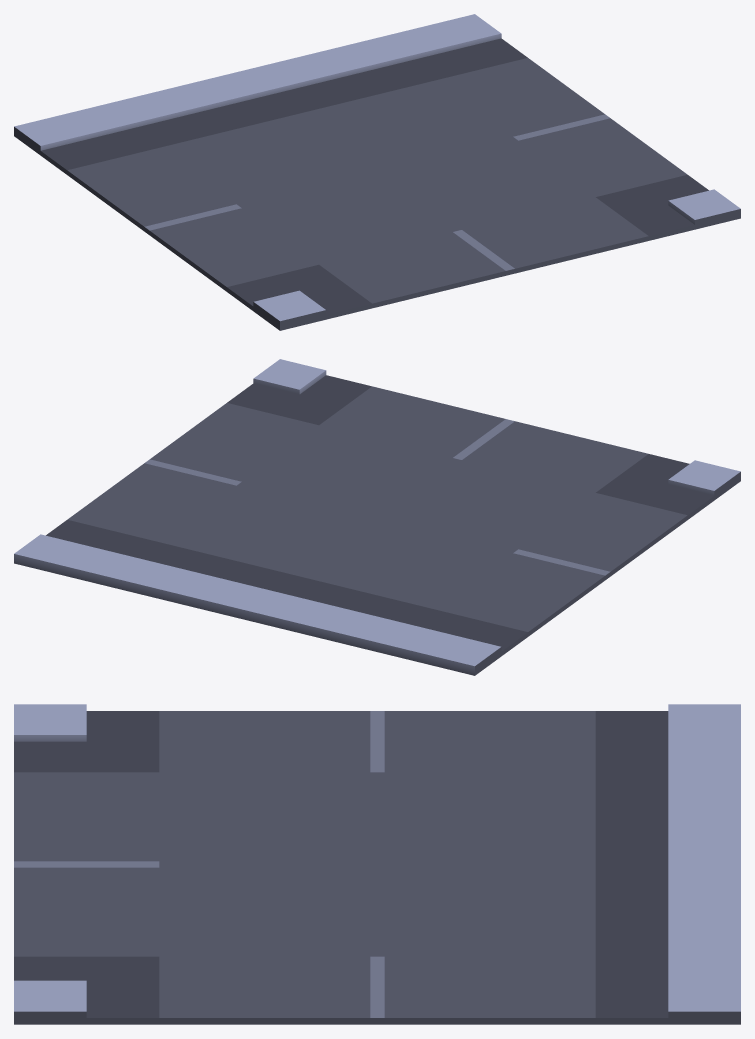
Rendered from road-intersection.glb.
3 renders of one model, top to bottom at view 1: azimuth 30°, elevation 25°; view 2: azimuth 150°, elevation 25°; view 3: azimuth 270°, elevation 25°, orthographic. The views are drawn at different scales.
Visible parts, largest first — view 1: road-intersection; view 2: road-intersection; view 3: road-intersection.
Part boxes in pixels (x1=…): road-intersection: x1=14, y1=14, x2=740, y2=330; road-intersection: x1=14, y1=359, x2=740, y2=675; road-intersection: x1=14, y1=704, x2=740, y2=1024.
Bounding box in the file's own units: 1 × 0.02 × 1.
